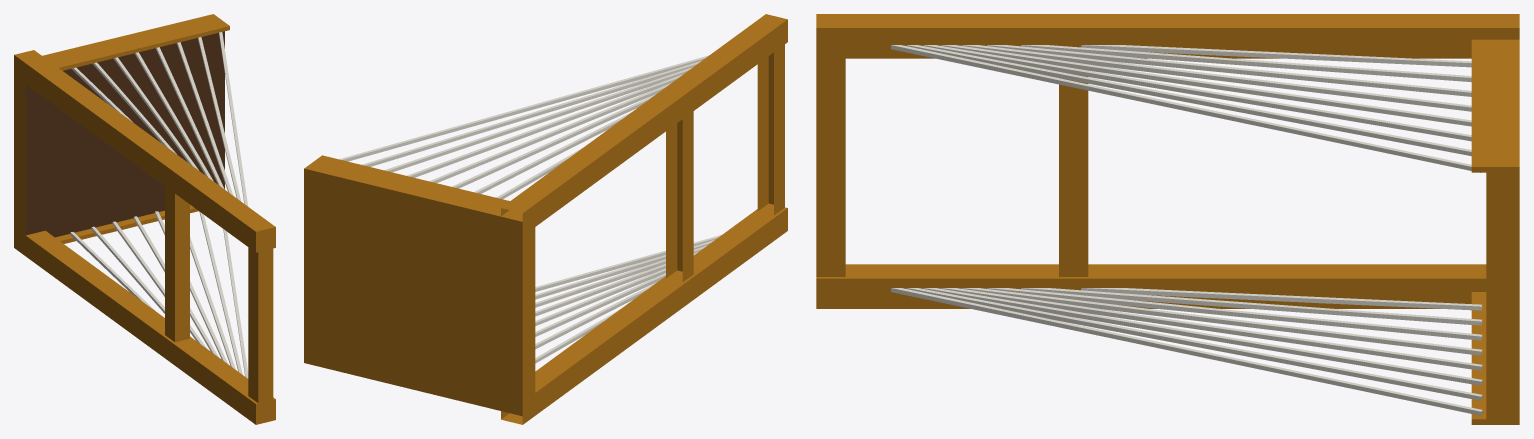
File: south.glb
3 views of the same model, side by side, from view 1: azimuth 30°, elevation 25°; view 2: azimuth 150°, elevation 25°; view 3: azimuth 270°, elevation 25° (orthographic). The views are drawn at different scales.
Parts seen in each view (by area): view 1: bridge_05_south; view 2: bridge_05_south; view 3: bridge_05_south.
Boxes of the visible parts, bbox=[...] form: bridge_05_south: bbox=[14, 14, 275, 424]; bridge_05_south: bbox=[304, 14, 787, 424]; bridge_05_south: bbox=[816, 14, 1519, 424].
Size of the model in its own units: 16 by 14.8 by 33.6.
